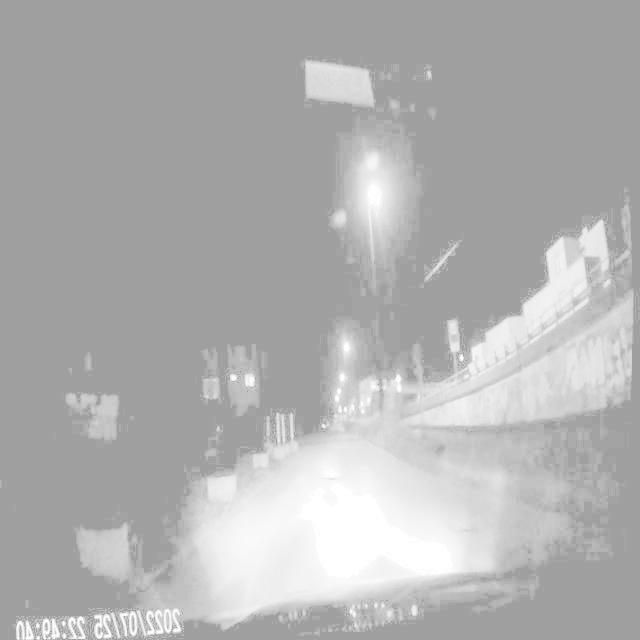Pothole: (319, 467, 355, 491), (452, 517, 483, 543)
